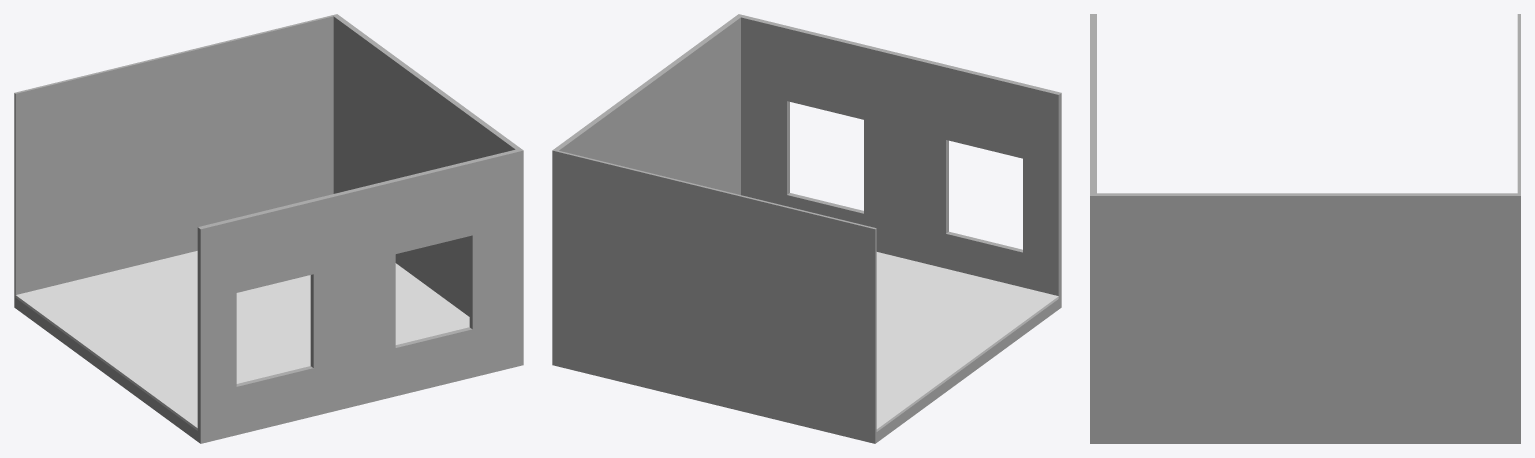
The model's file is 4x2 third (1)-7.obj.
The picture shows the model from 3 angles, left to right: view 1: azimuth 30°, elevation 25°; view 2: azimuth 150°, elevation 25°; view 3: azimuth 270°, elevation 25°; orthographic projection. The views are drawn at different scales.
Parts seen in each view (by area): view 1: 4x2 third (1)-7; view 2: 4x2 third (1)-7; view 3: 4x2 third (1)-7.
Boxes of the visible parts, box(x1,y1,x2,y2) form: 4x2 third (1)-7: box(14, 14, 523, 443); 4x2 third (1)-7: box(552, 14, 1061, 443); 4x2 third (1)-7: box(1090, 14, 1520, 443).
Bounding box in the file's own units: 126 × 80 × 126.
Materials: 1 (1 with a texture image).
